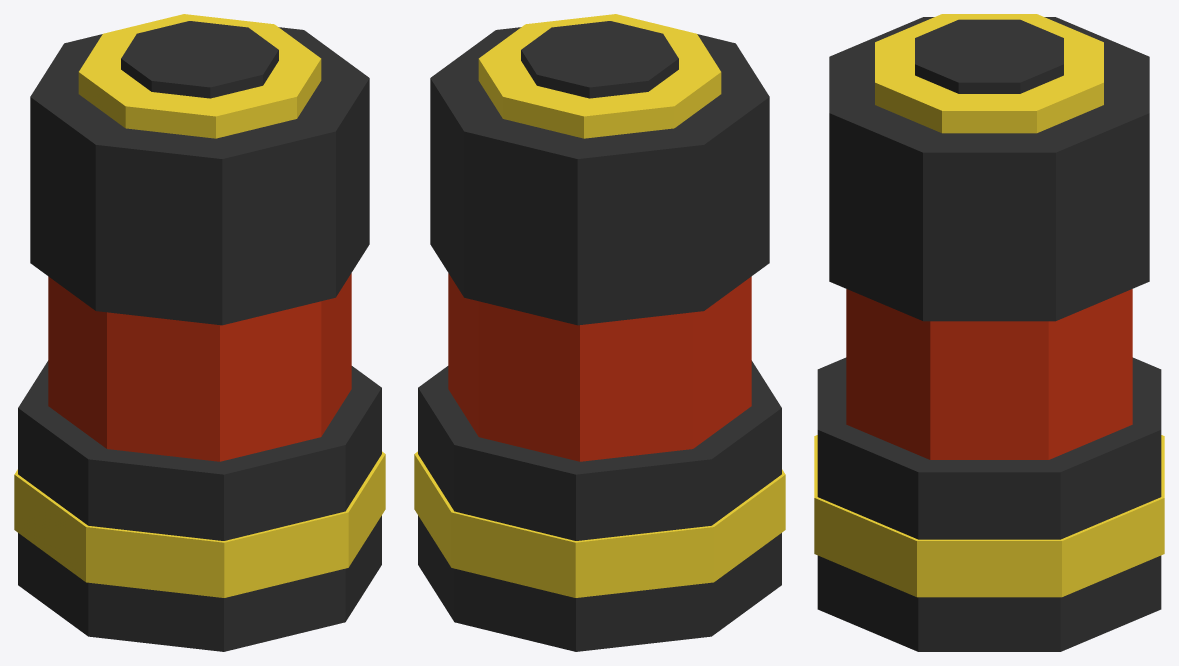
Rendered from ce_ammo_fuelcell_inc_a.obj.
3 views of the same model, side by side, from view 1: azimuth 30°, elevation 25°; view 2: azimuth 150°, elevation 25°; view 3: azimuth 270°, elevation 25° (orthographic).
Visible parts, largest first — view 1: ce_ammo_fuelcell_inc_a_4, ce_ammo_fuelcell_inc_a_3, ce_ammo_fuelcell_inc_a_2, ce_ammo_fuelcell_inc_a_1, ce_ammo_fuelcell_inc_a_0, ce_ammo_fuelcell_inc_a_5, ce_ammo_fuelcell_inc_a_6; view 2: ce_ammo_fuelcell_inc_a_4, ce_ammo_fuelcell_inc_a_3, ce_ammo_fuelcell_inc_a_2, ce_ammo_fuelcell_inc_a_1, ce_ammo_fuelcell_inc_a_0, ce_ammo_fuelcell_inc_a_5, ce_ammo_fuelcell_inc_a_6; view 3: ce_ammo_fuelcell_inc_a_4, ce_ammo_fuelcell_inc_a_3, ce_ammo_fuelcell_inc_a_2, ce_ammo_fuelcell_inc_a_1, ce_ammo_fuelcell_inc_a_0, ce_ammo_fuelcell_inc_a_5, ce_ammo_fuelcell_inc_a_6.
Part boxes in pixels (box(x1,y1,x2,y2)): ce_ammo_fuelcell_inc_a_4: box(30, 27, 369, 325); ce_ammo_fuelcell_inc_a_3: box(48, 273, 351, 461); ce_ammo_fuelcell_inc_a_2: box(18, 360, 381, 540); ce_ammo_fuelcell_inc_a_1: box(14, 451, 385, 597); ce_ammo_fuelcell_inc_a_0: box(18, 515, 381, 651); ce_ammo_fuelcell_inc_a_5: box(78, 14, 321, 138); ce_ammo_fuelcell_inc_a_6: box(121, 21, 278, 98); ce_ammo_fuelcell_inc_a_4: box(430, 27, 769, 325); ce_ammo_fuelcell_inc_a_3: box(448, 273, 751, 461); ce_ammo_fuelcell_inc_a_2: box(418, 360, 781, 540); ce_ammo_fuelcell_inc_a_1: box(414, 451, 785, 597); ce_ammo_fuelcell_inc_a_0: box(418, 515, 781, 651); ce_ammo_fuelcell_inc_a_5: box(478, 14, 721, 138); ce_ammo_fuelcell_inc_a_6: box(521, 21, 678, 98); ce_ammo_fuelcell_inc_a_4: box(829, 17, 1149, 321); ce_ammo_fuelcell_inc_a_3: box(846, 289, 1132, 459); ce_ammo_fuelcell_inc_a_2: box(817, 357, 1161, 539); ce_ammo_fuelcell_inc_a_1: box(814, 435, 1164, 597); ce_ammo_fuelcell_inc_a_0: box(817, 555, 1161, 651); ce_ammo_fuelcell_inc_a_5: box(875, 14, 1103, 133); ce_ammo_fuelcell_inc_a_6: box(915, 19, 1063, 93).
Bounding box in the file's own units: 0.2828 × 0.47 × 0.2828.
